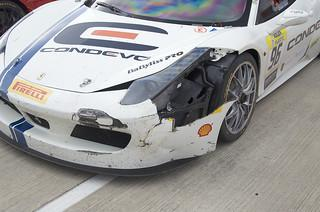front-bumper-dent: (82, 109, 202, 170)
